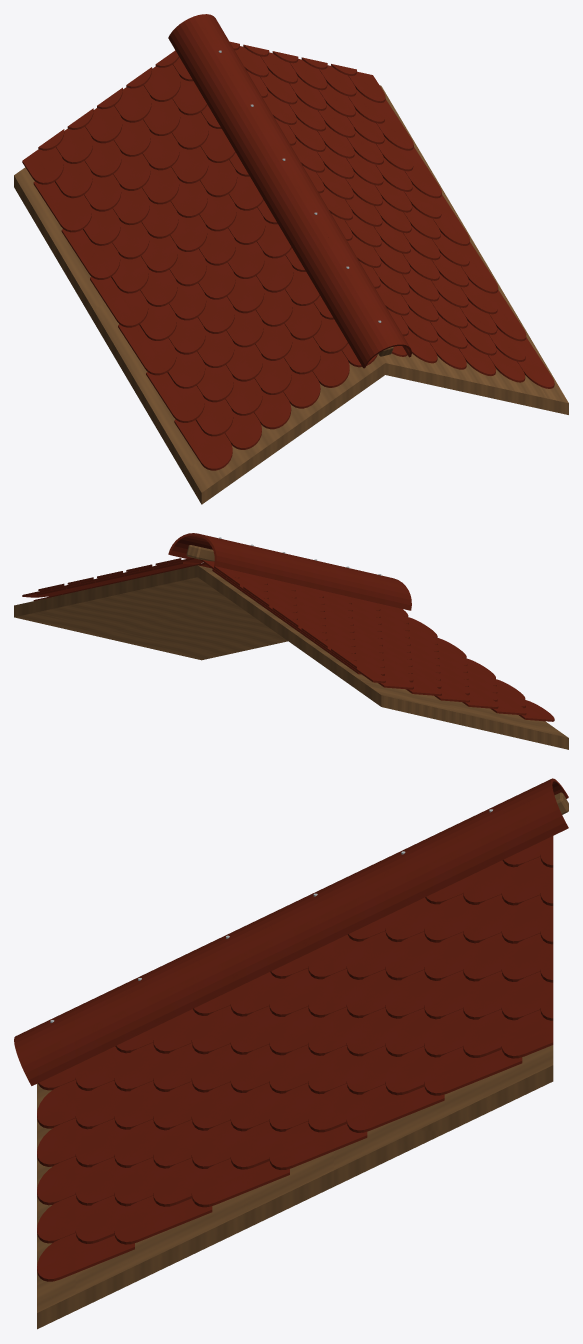
The model's file is modell.glb.
3 renders of one model, top to bottom at view 1: azimuth 30°, elevation 25°; view 2: azimuth 150°, elevation 25°; view 3: azimuth 270°, elevation 25°, orthographic. The views are drawn at different scales.
Parts seen in each view (by area): view 1: w01-ziegel_deckung, w01-gratziegel_deckung, w01-walmflaeche_tragwerk; view 2: w01-walmflaeche_tragwerk, w01-ziegel_deckung, w01-gratziegel_deckung, w01-gratlatte_lattung; view 3: w01-ziegel_deckung, w01-gratziegel_deckung, w01-walmflaeche_tragwerk.
Boxes of the visible parts, x1=… form: w01-ziegel_deckung: x1=22, y1=41, x2=554, y2=470; w01-gratziegel_deckung: x1=168, y1=14, x2=411, y2=368; w01-walmflaeche_tragwerk: x1=14, y1=85, x2=568, y2=504; w01-walmflaeche_tragwerk: x1=14, y1=565, x2=568, y2=749; w01-ziegel_deckung: x1=22, y1=558, x2=554, y2=721; w01-gratziegel_deckung: x1=168, y1=533, x2=411, y2=610; w01-gratlatte_lattung: x1=186, y1=545, x2=214, y2=561; w01-ziegel_deckung: x1=37, y1=836, x2=553, y2=1281; w01-gratziegel_deckung: x1=14, y1=778, x2=568, y2=1085; w01-walmflaeche_tragwerk: x1=37, y1=1045, x2=553, y2=1329.
Bounding box in the file's own units: 2.26 × 1.81 × 2.15.
3 materials, 2 textured.
